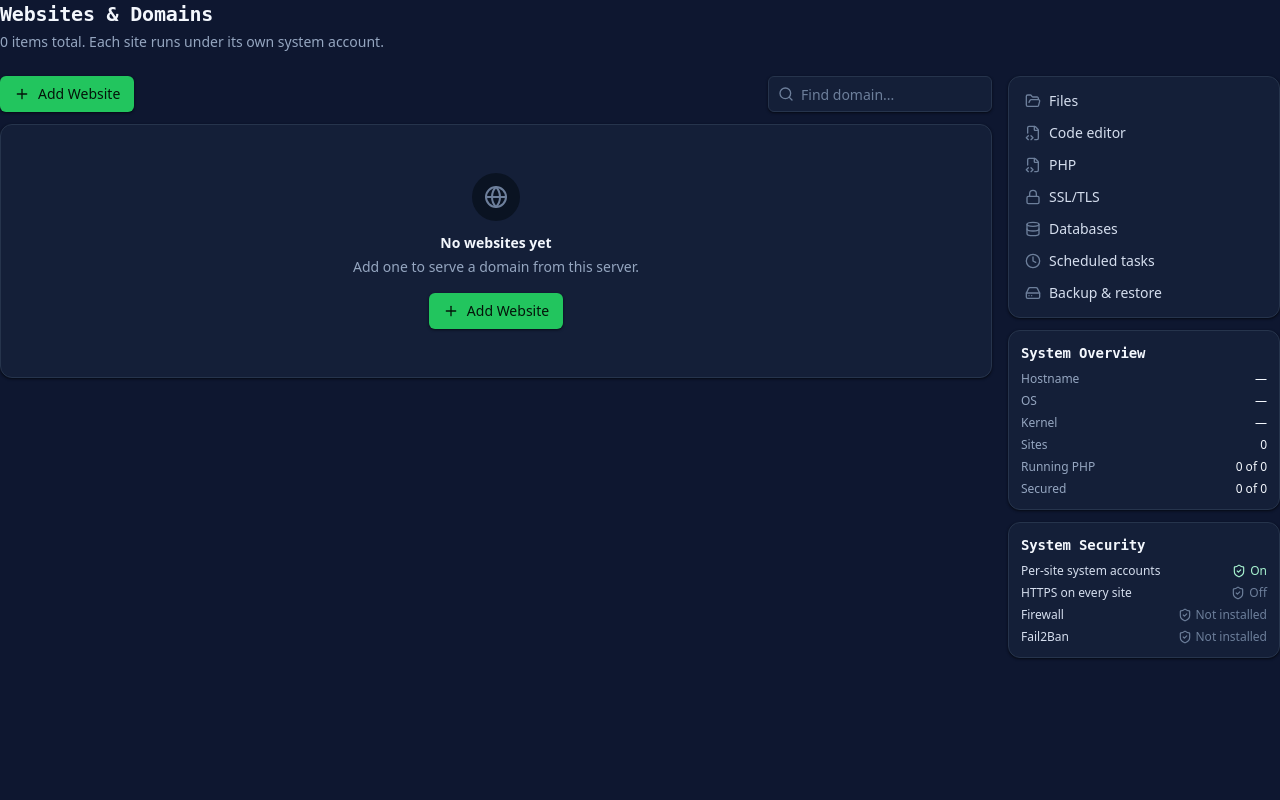
Test: WebsitesPage › rejects an invalid domain without contacting the API
The width and height of the screenshot is (1280, 800).
Click the 1st button "Add Website" at x=67, y=94, box left=0, top=76, right=134, bottom=112
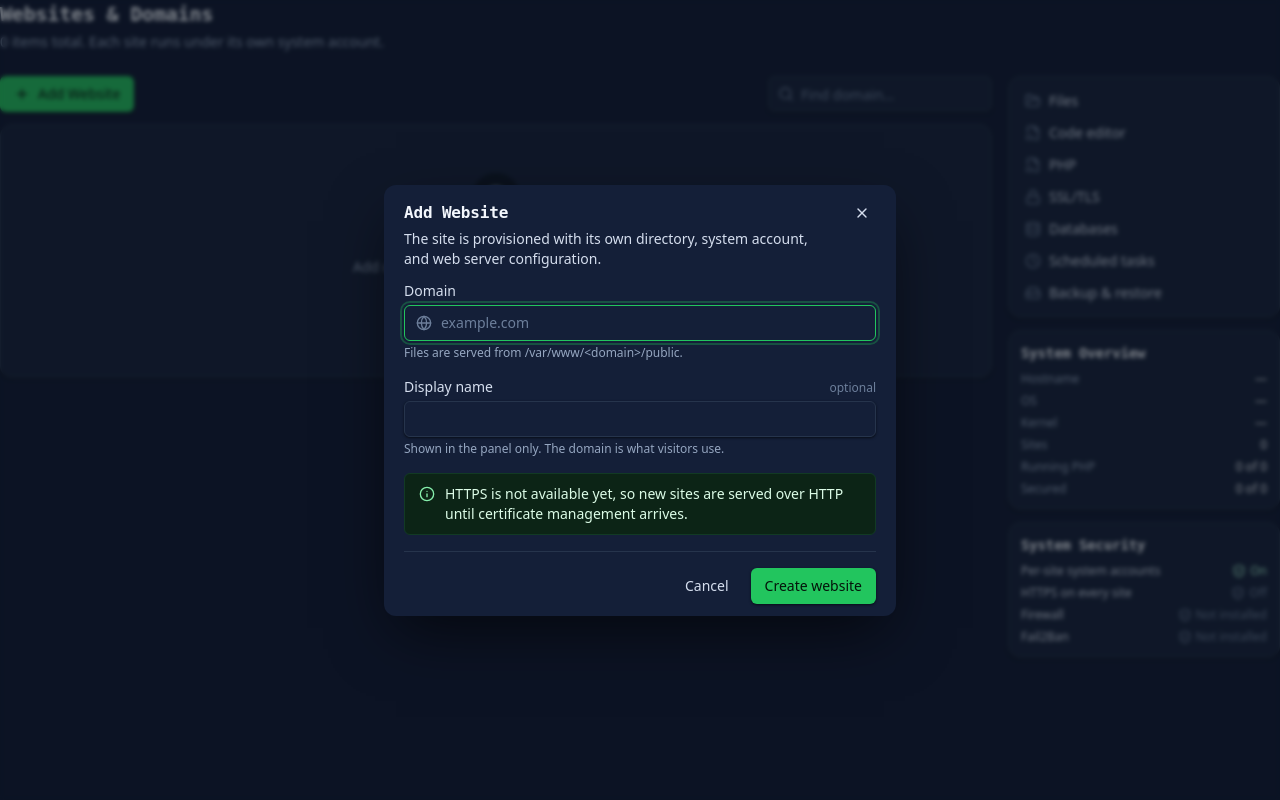
Type "localhost" into the field labelled "Domain" at x=640, y=322, box left=404, top=304, right=876, bottom=340
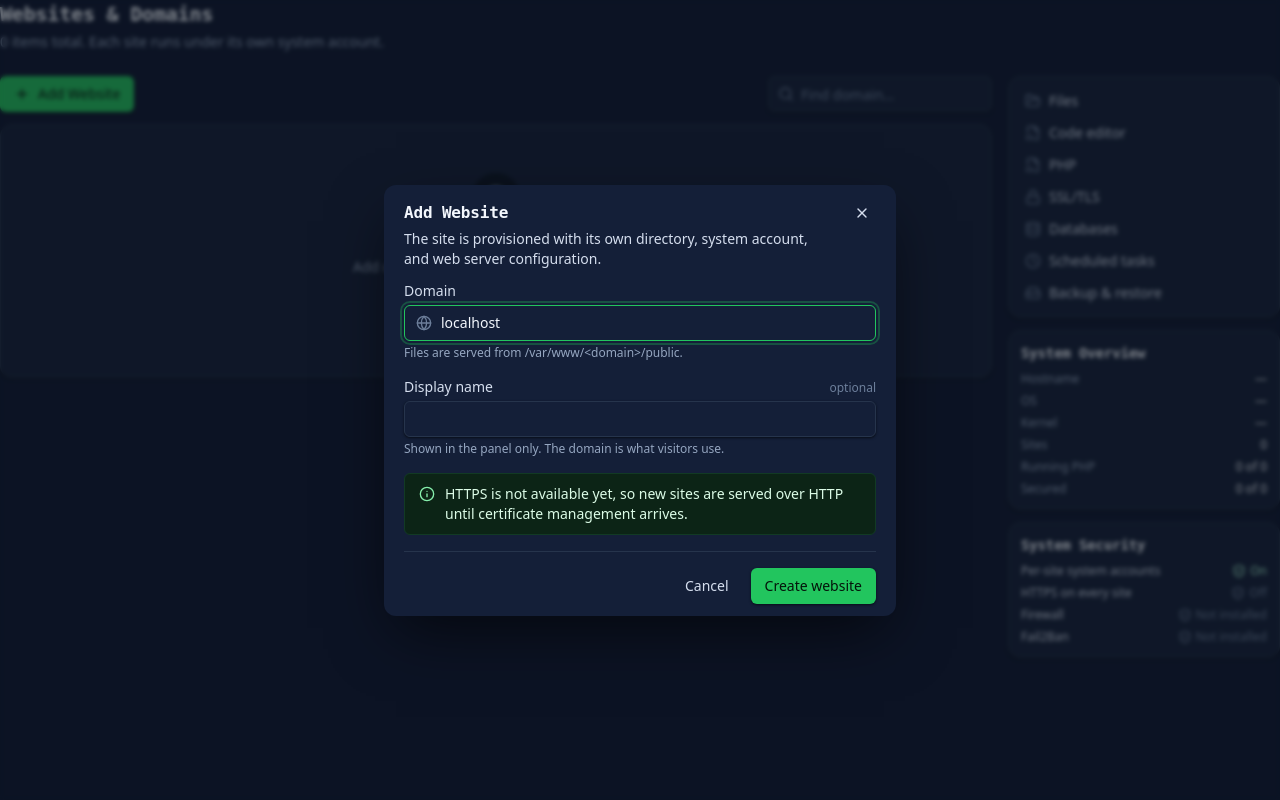
Click the button "Create website" at x=813, y=586, box left=750, top=568, right=876, bottom=604
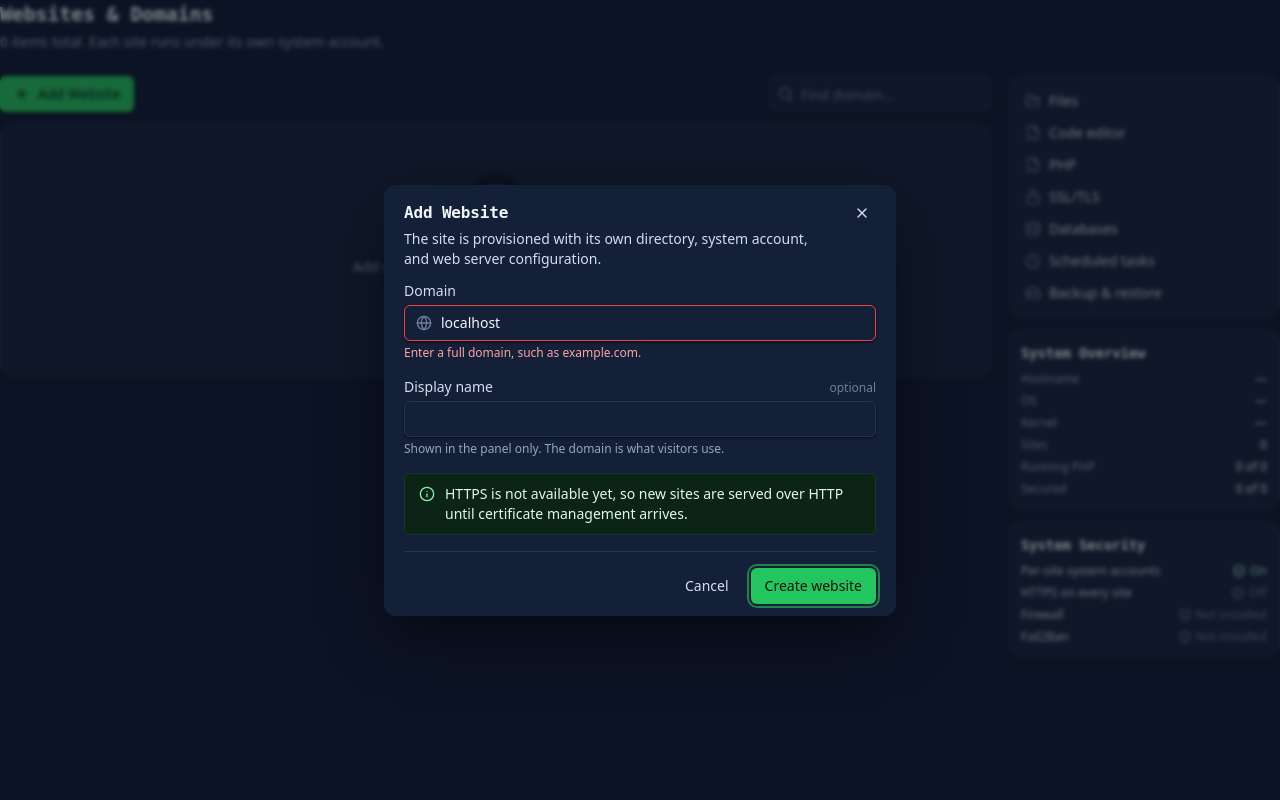
Expected: the message "Enter a full domain, such as example.com." is shown, left=404, top=344, right=641, bottom=360
